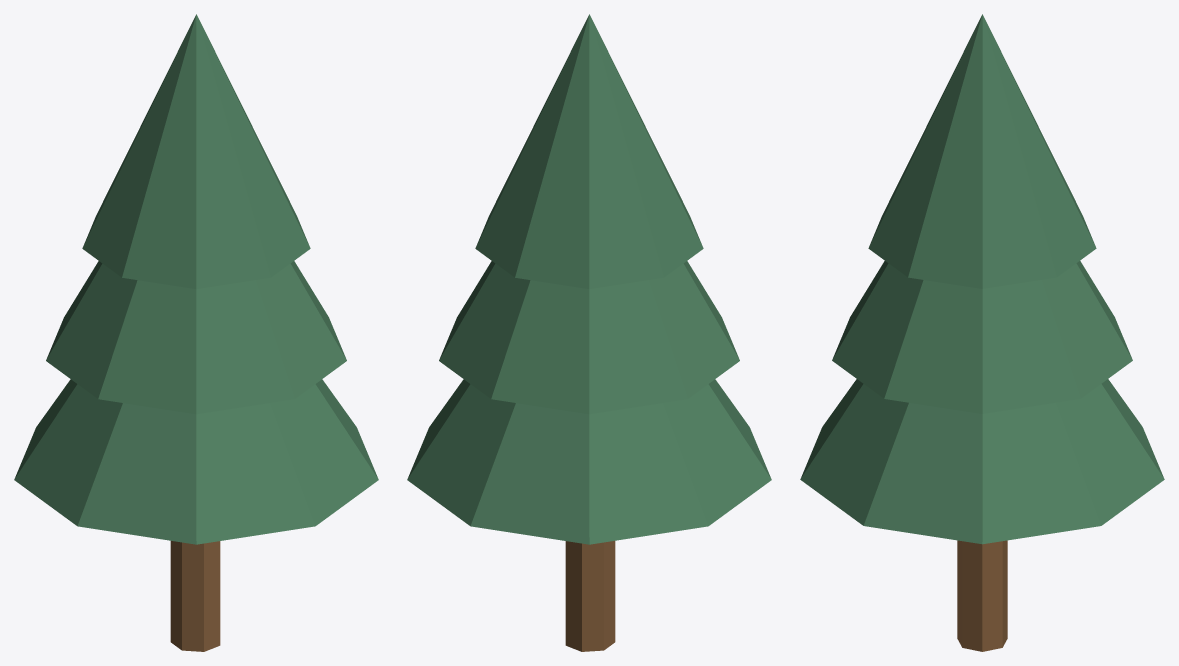
File: Mush_MapProp_Pine_B_V2.fbx
The picture shows the model from 3 angles, left to right: view 1: azimuth 30°, elevation 25°; view 2: azimuth 150°, elevation 25°; view 3: azimuth 270°, elevation 25°; orthographic projection.
Parts seen in each view (by area): view 1: Mush_MapProp_Pine_B_V2; view 2: Mush_MapProp_Pine_B_V2; view 3: Mush_MapProp_Pine_B_V2.
Part boxes in pixels (bbox=[...]): Mush_MapProp_Pine_B_V2: bbox=[14, 14, 378, 651]; Mush_MapProp_Pine_B_V2: bbox=[407, 14, 771, 651]; Mush_MapProp_Pine_B_V2: bbox=[800, 14, 1164, 651].
Bounding box in the file's own units: 263 × 507 × 267.
